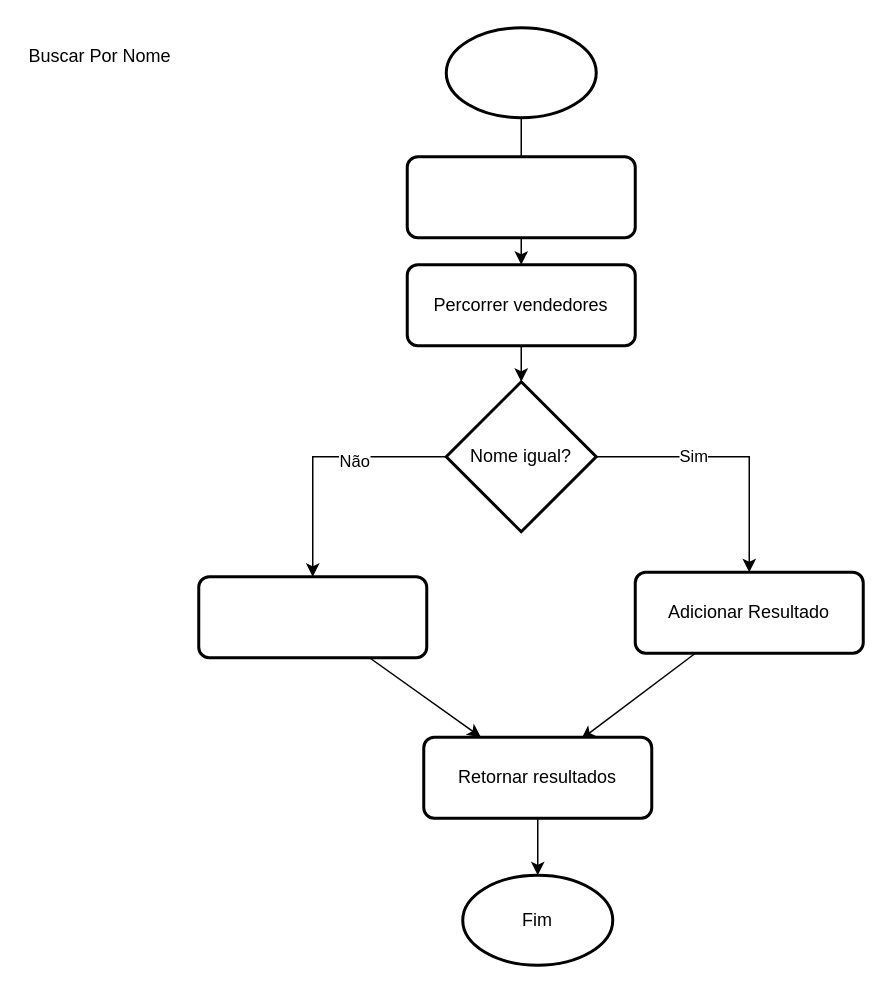
Image size: 890x992. Some labels were removed from this diagram. Each missing label, with the centre of its shape:
Continuar Busca: the point at 312,616
Inicio: the point at 520,72
Receber nome: the point at 520,196
